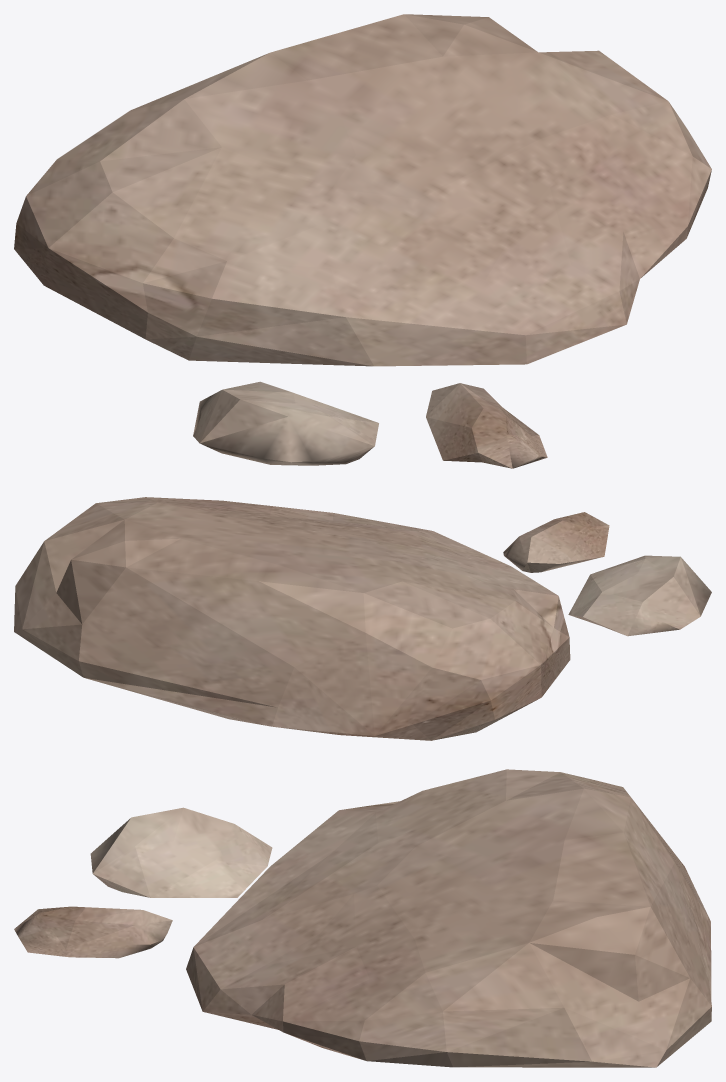
The picture shows the model from 3 angles, top to bottom: view 1: azimuth 30°, elevation 25°; view 2: azimuth 150°, elevation 25°; view 3: azimuth 270°, elevation 25°; orthographic projection. The views are drawn at different scales.
Parts seen in each view (by area): view 1: body0_model0_lod0_mesh0; view 2: body0_model0_lod0_mesh0; view 3: body0_model0_lod0_mesh0.
Part boxes in pixels (left/top/right/bottom): body0_model0_lod0_mesh0: left=14, top=14, right=711, bottom=468; body0_model0_lod0_mesh0: left=14, top=497, right=711, bottom=740; body0_model0_lod0_mesh0: left=14, top=769, right=711, bottom=1067.
Bounding box in the file's own units: 30.42 × 7.31 × 32.02.
Materials: 1 (1 with a texture image).
